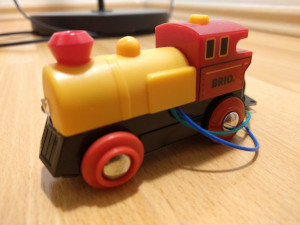brio: (37, 15, 253, 192)
